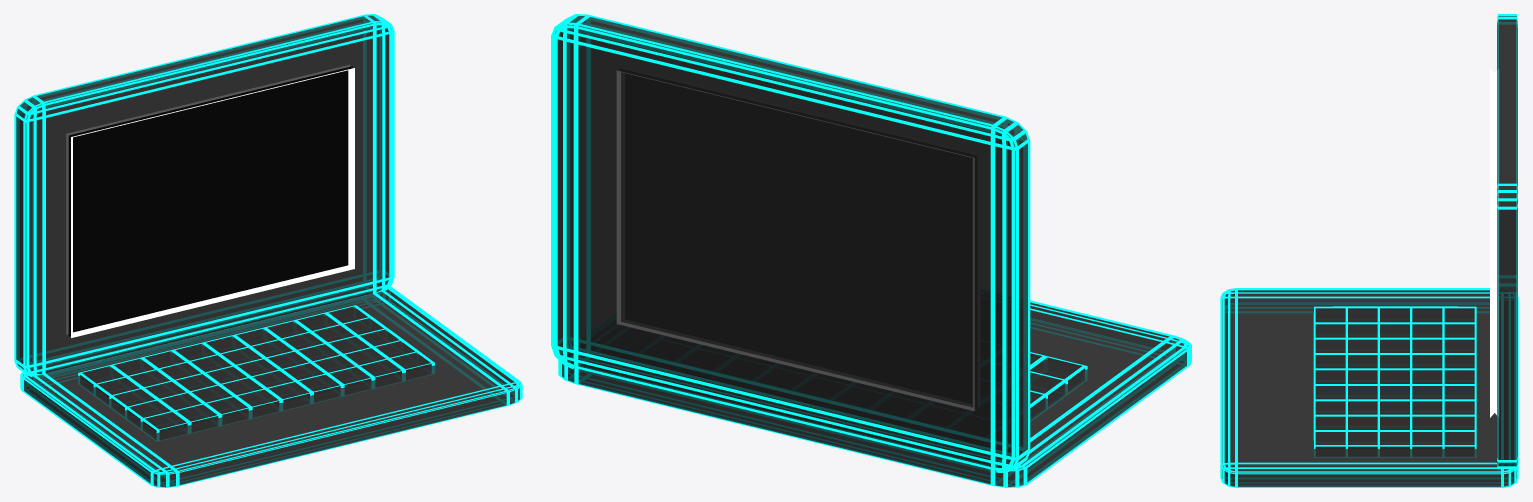
Rendered from Laptop.glb.
3 views of the same model, side by side, from view 1: azimuth 30°, elevation 25°; view 2: azimuth 150°, elevation 25°; view 3: azimuth 270°, elevation 25° (orthographic). The views are drawn at different scales.
Visible parts, largest first — view 1: Plane, Cube, Cube.001, Cube.002; view 2: Cube.001, Cube, Plane, Cube.002; view 3: Cube, Cube.002, Cube.001, Plane.
Part boxes in pixels (left/top/right/bottom): Plane: left=67, top=65, right=354, bottom=337; Cube: left=20, top=286, right=522, bottom=487; Cube.001: left=14, top=14, right=394, bottom=377; Cube.002: left=78, top=305, right=434, bottom=441; Cube.001: left=551, top=14, right=1030, bottom=472; Cube: left=558, top=300, right=1191, bottom=487; Plane: left=617, top=71, right=974, bottom=410; Cube.002: left=1030, top=352, right=1087, bottom=420; Cube: left=1220, top=288, right=1518, bottom=487; Cube.002: left=1313, top=306, right=1476, bottom=457; Cube.001: left=1497, top=14, right=1517, bottom=470; Plane: left=1490, top=68, right=1496, bottom=417.
Size of the model in its own units: 2.8 by 2.07 by 1.9.
